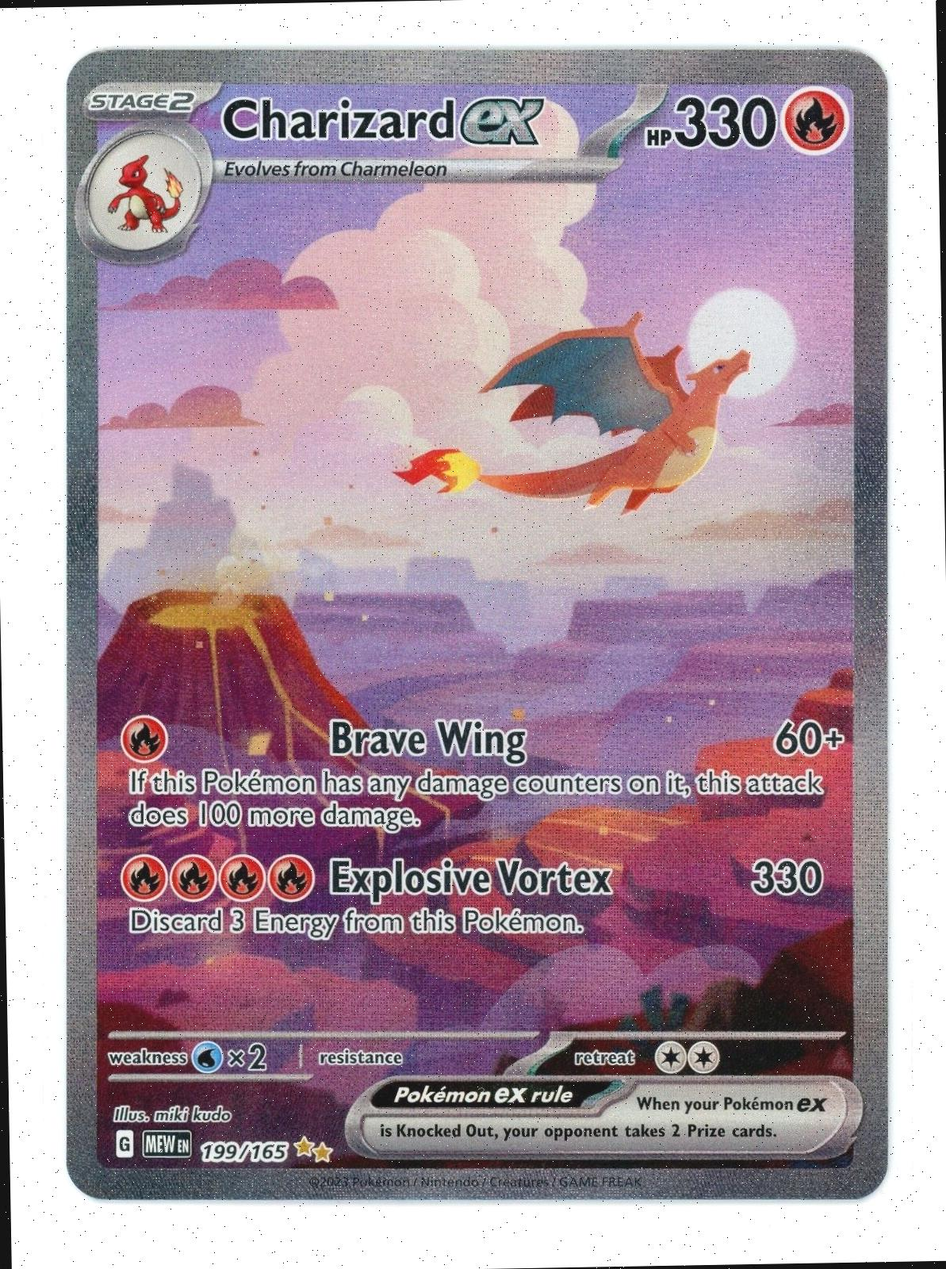card-2UtV: (65, 49, 888, 1200)
